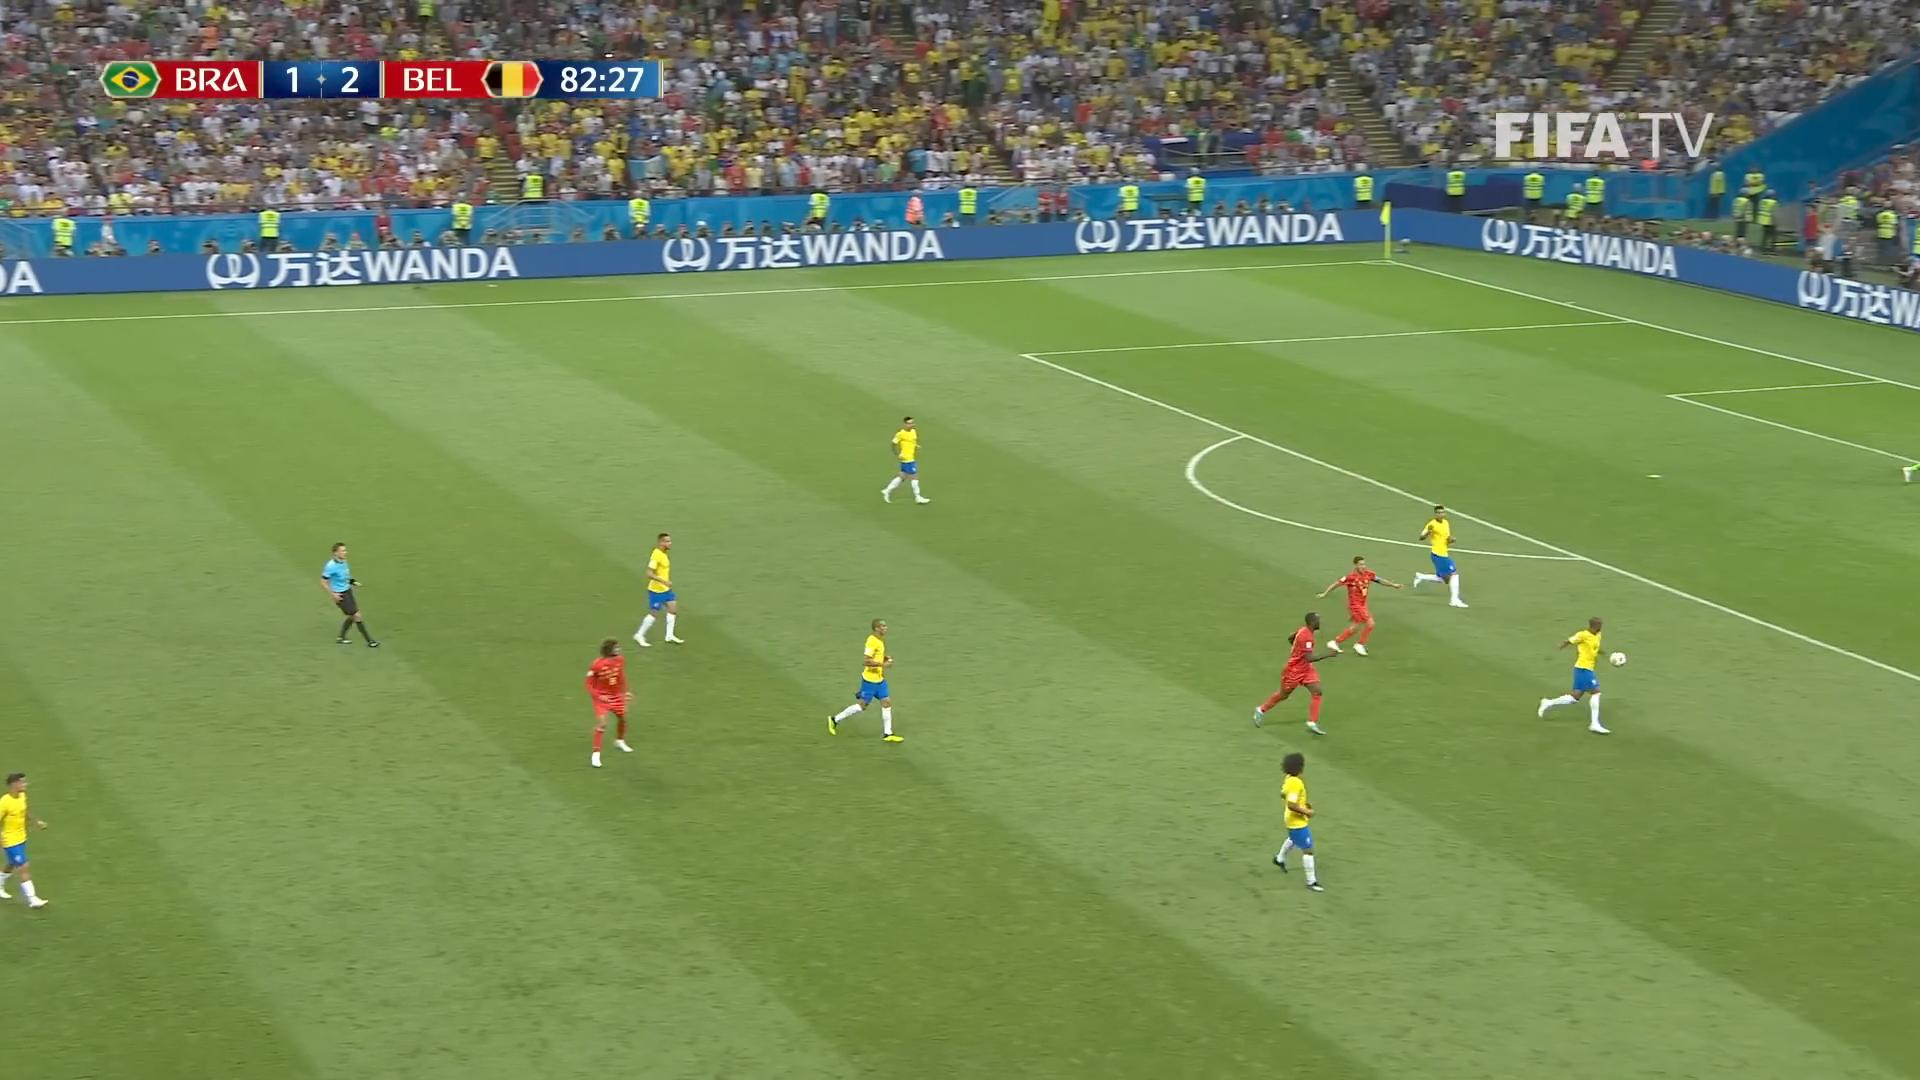ball: (1609, 650, 1629, 669)
player: (1250, 610, 1340, 736), (825, 617, 904, 743), (1314, 554, 1403, 656), (1535, 615, 1611, 734), (1271, 751, 1324, 891), (0, 770, 49, 909), (583, 637, 634, 768), (631, 532, 685, 647), (1411, 503, 1468, 608), (879, 415, 930, 504)
referee: (319, 541, 379, 648)
